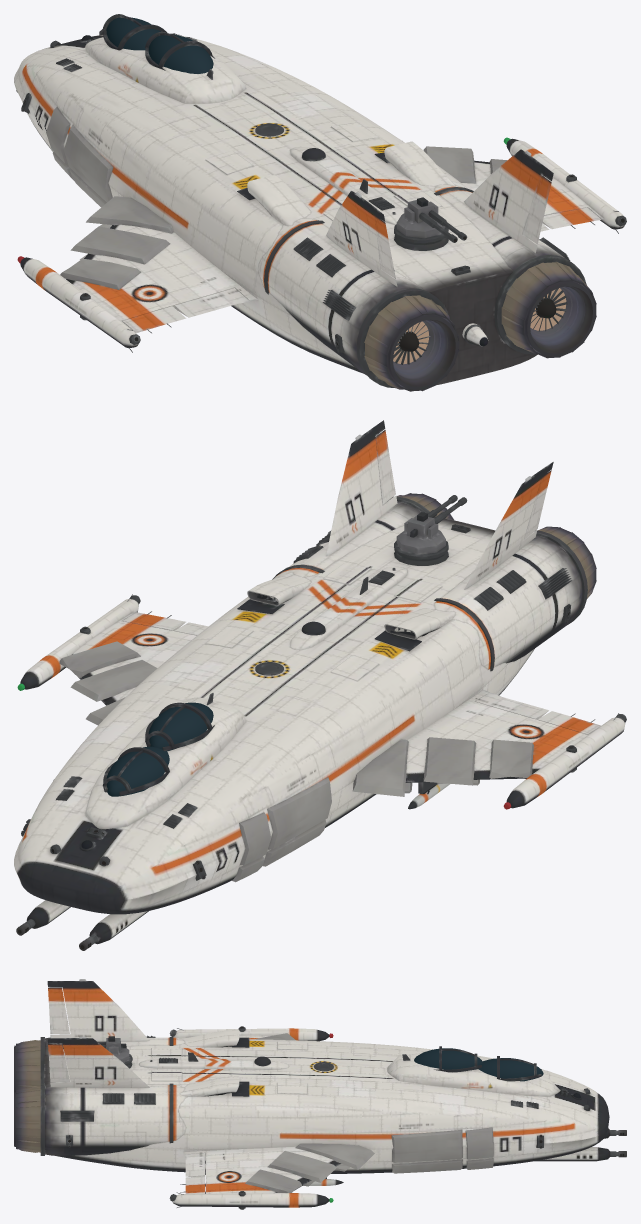
The model's file is anvil.glb.
3 renders of one model, top to bottom at view 1: azimuth 30°, elevation 25°; view 2: azimuth 150°, elevation 25°; view 3: azimuth 270°, elevation 25°, orthographic. The views are drawn at different scales.
Visible parts, largest first — view 1: hull, hull_1, glass, turret_rear, turret_rear_gun; view 2: hull, hull_1, glass, turret_rear, turret_rear_gun; view 3: hull, hull_1, glass.
Part boxes in pixels (x1,y1,x2,y2): hull: [14, 14, 624, 384]; hull_1: [16, 33, 531, 391]; glass: [106, 17, 213, 73]; turret_rear: [394, 201, 448, 243]; turret_rear_gun: [407, 197, 467, 242]; hull: [14, 420, 534, 914]; hull_1: [16, 434, 625, 950]; glass: [106, 702, 213, 796]; turret_rear: [394, 518, 448, 559]; turret_rear_gun: [406, 495, 467, 539]; hull: [14, 1038, 609, 1207]; hull_1: [14, 979, 626, 1192]; glass: [414, 1048, 543, 1081].
Size of the model in its own units: 12.88 by 5.07 by 19.53.
Materials: 2 (1 with a texture image).
